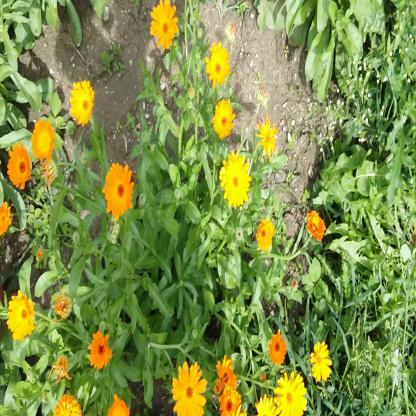marigold: (170, 360, 206, 416), (220, 154, 250, 208), (105, 163, 134, 218), (273, 370, 307, 414), (149, 2, 179, 48), (5, 142, 31, 187), (7, 294, 32, 340), (30, 119, 54, 162), (256, 115, 280, 158), (310, 341, 333, 382), (69, 80, 92, 121), (213, 98, 234, 137), (209, 46, 230, 84), (89, 331, 110, 369), (219, 386, 243, 414), (256, 218, 275, 253), (306, 209, 326, 242), (269, 332, 288, 366), (218, 357, 238, 389)
